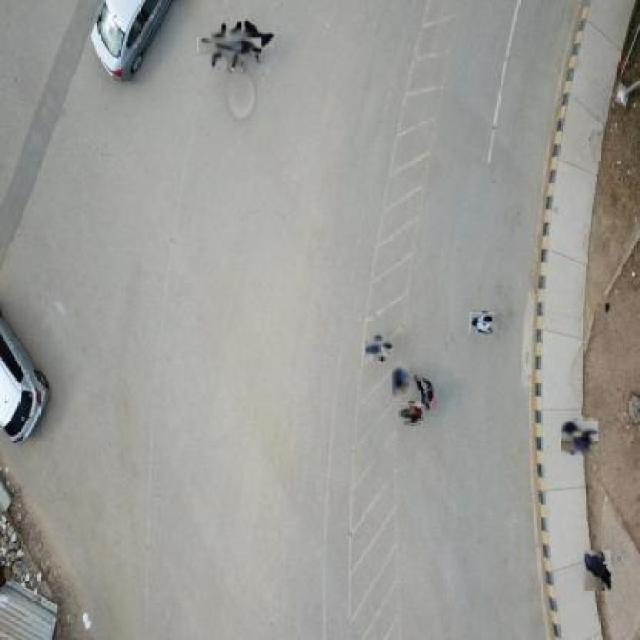Person: (560, 418, 598, 454), (218, 29, 253, 65), (584, 550, 611, 592), (205, 30, 237, 62), (236, 26, 269, 57), (414, 374, 437, 412), (367, 336, 391, 361), (472, 312, 496, 336), (392, 366, 410, 397), (402, 402, 423, 424)
